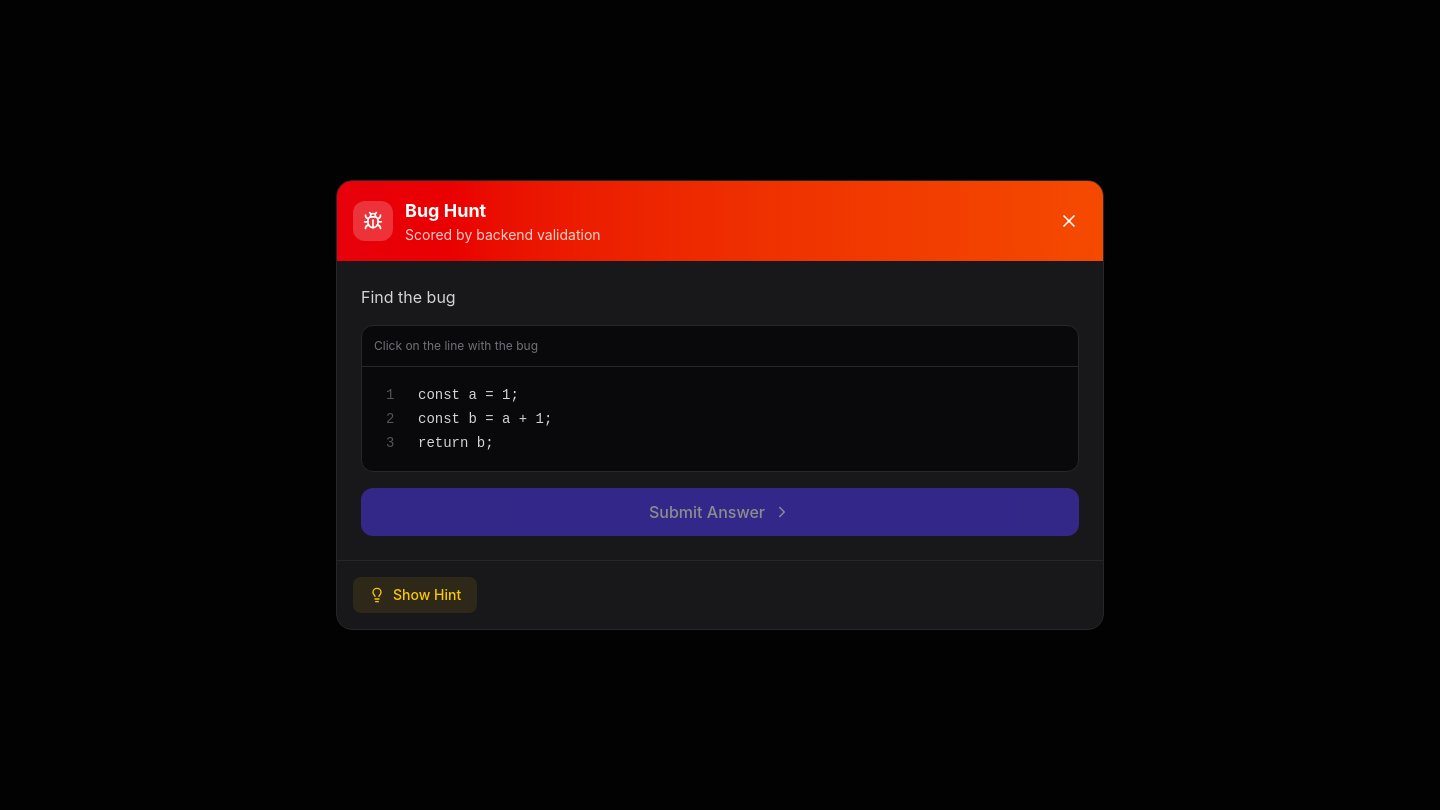
Test case: ChallengeView › validates bug hunt answers through backend API
Click the text "const b = a + 1;".
click(485, 419)  # box [418,409,552,429]
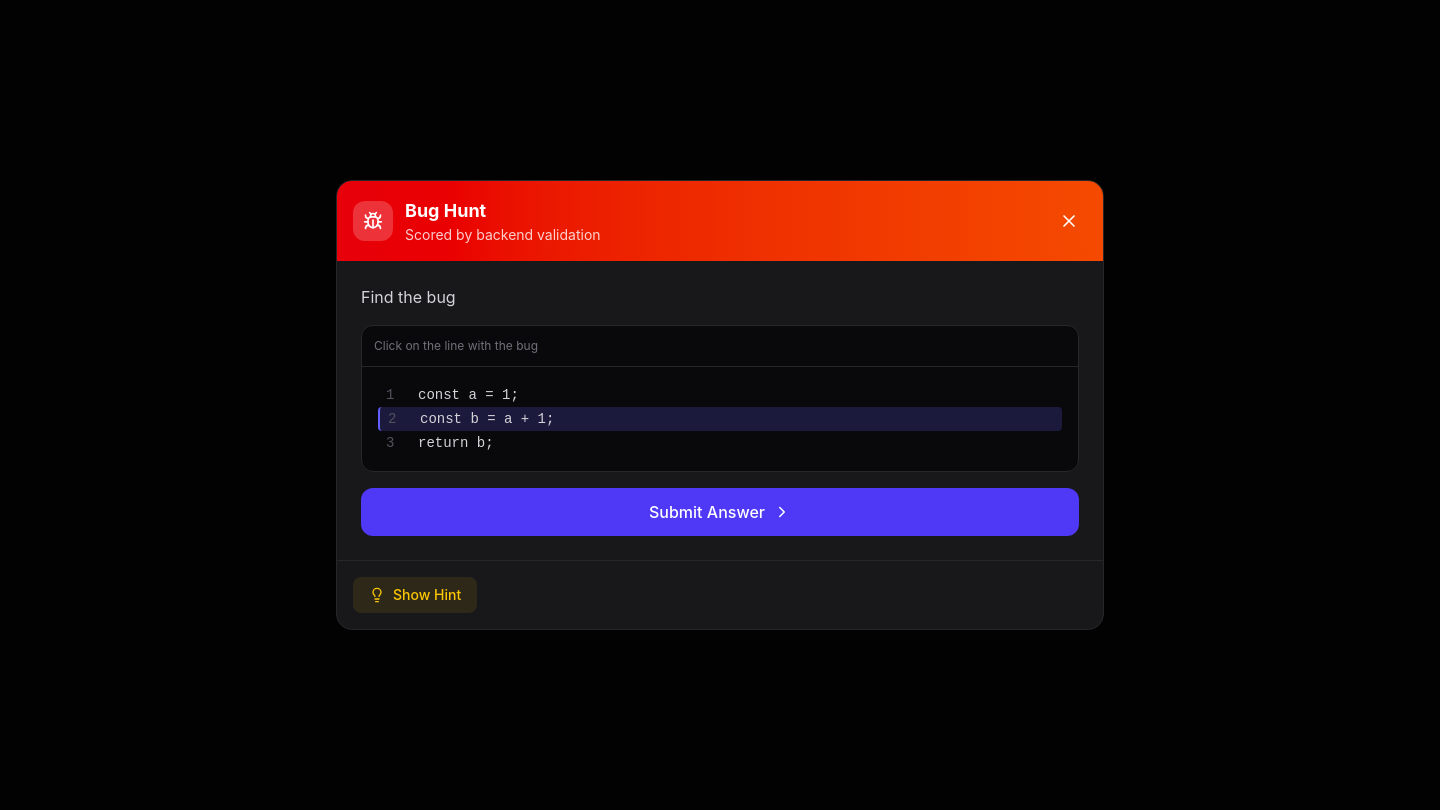
Click the button "Submit Answer".
click(720, 512)  # box [361,488,1079,536]
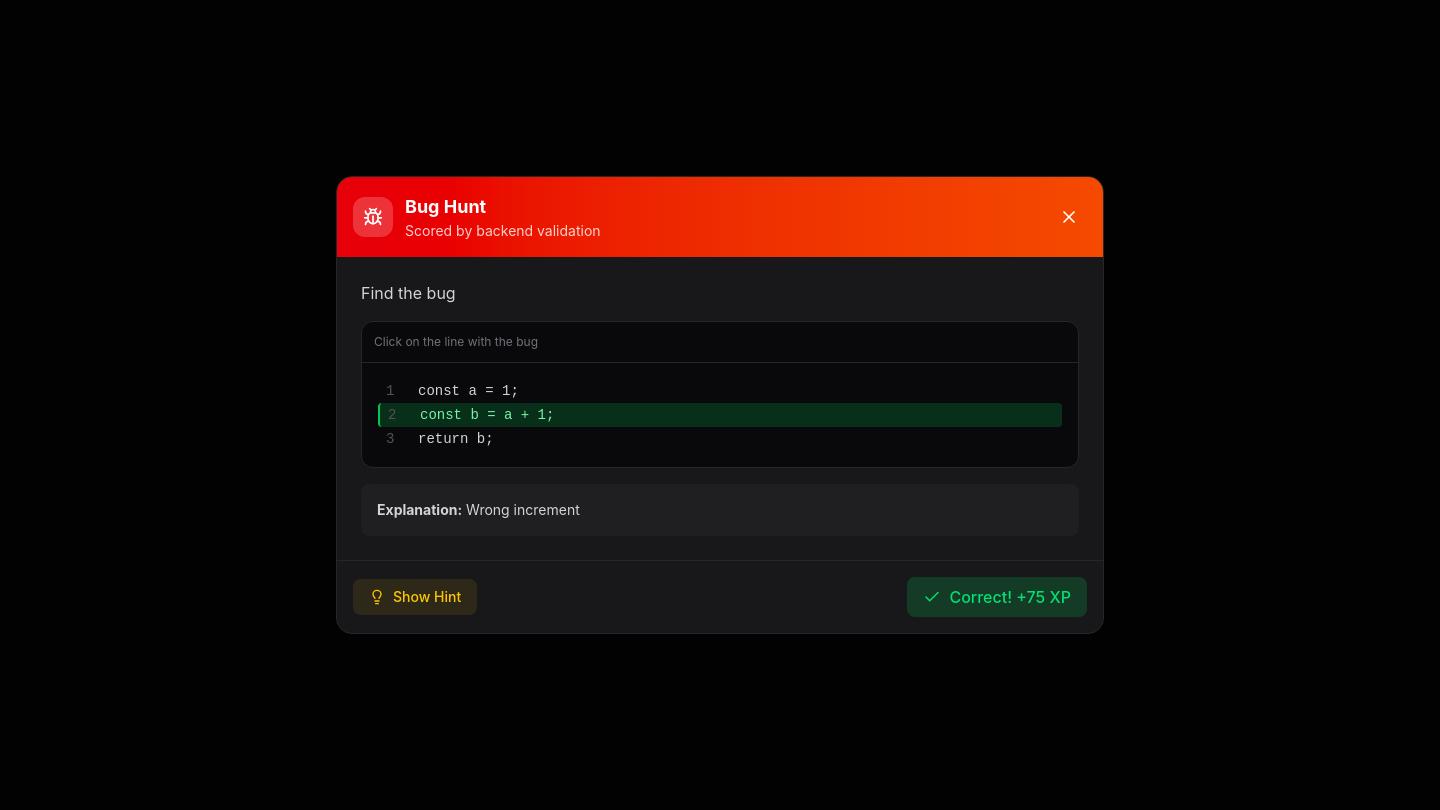
Result: the text "Correct! +75 XP" is shown at [949,585,1071,609]
